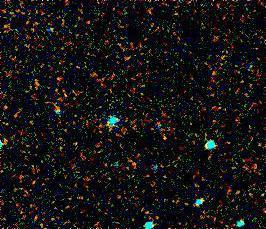star: (150, 125, 180, 155)
